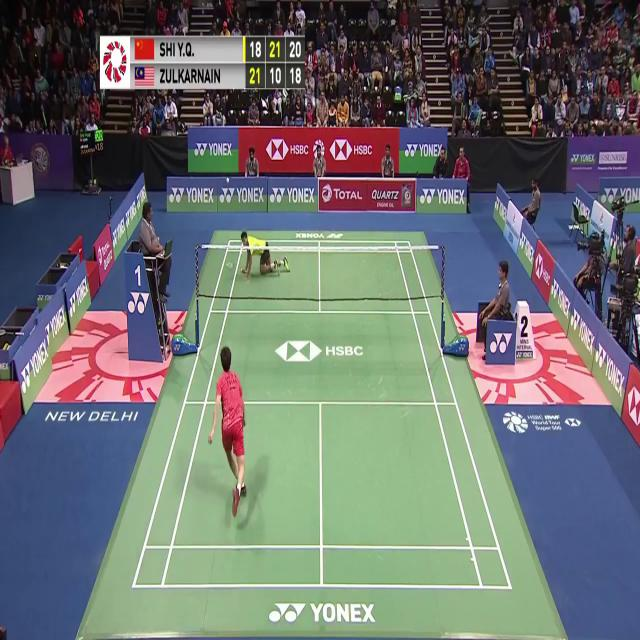Shuttlecock: (224, 174, 231, 185)
